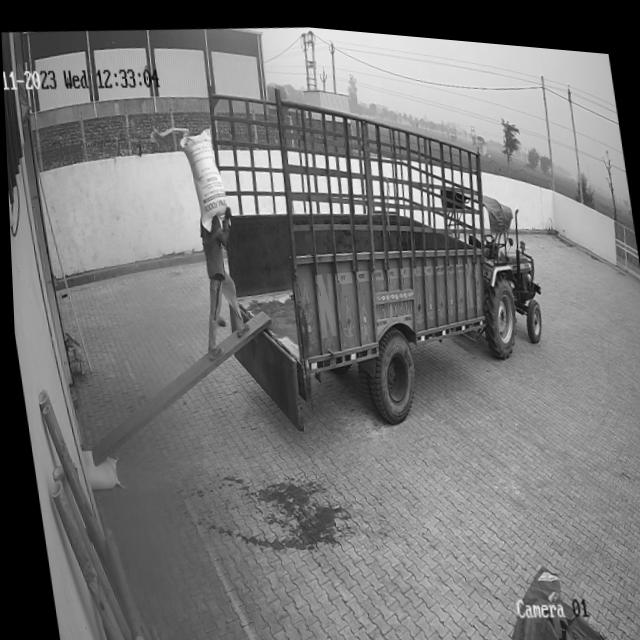sack: (177, 120, 229, 230), (77, 444, 117, 491)
